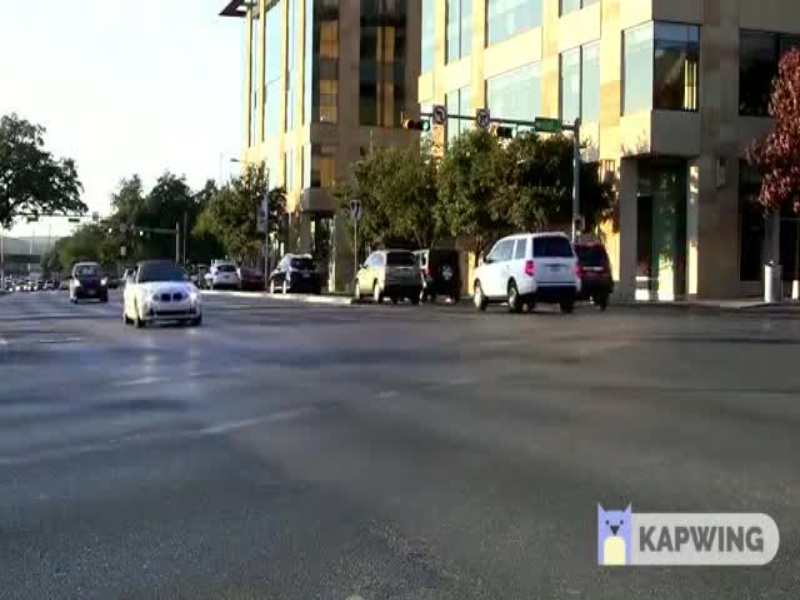car: (117, 247, 209, 341)
suv: (467, 229, 587, 310), (349, 250, 426, 305), (263, 247, 328, 297)
